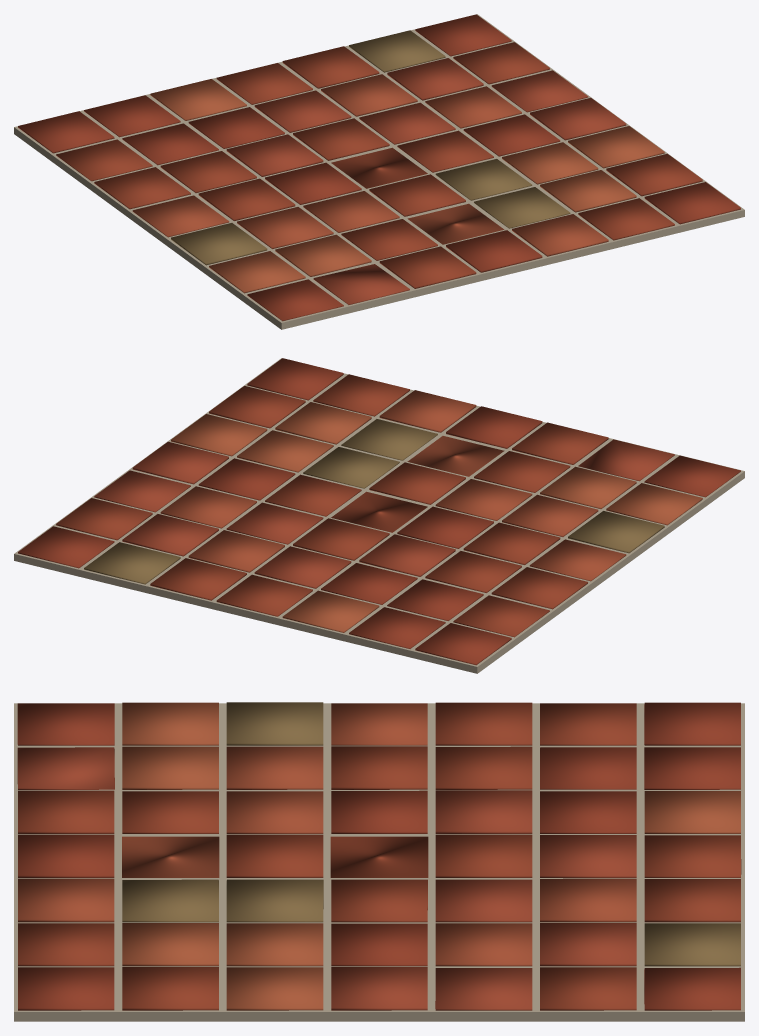
Rendered from san_gach.glb.
3 renders of one model, top to bottom at view 1: azimuth 30°, elevation 25°; view 2: azimuth 150°, elevation 25°; view 3: azimuth 270°, elevation 25°, orthographic. The views are drawn at different scales.
Parts seen in each view (by area): view 1: san_gach; view 2: san_gach; view 3: san_gach.
Part boxes in pixels (x1,y1,x2,y2): san_gach: [14, 14, 744, 329]; san_gach: [14, 358, 744, 673]; san_gach: [14, 702, 744, 1021].
Bounding box in the file's own units: 2.1 × 0.0387 × 2.1.
